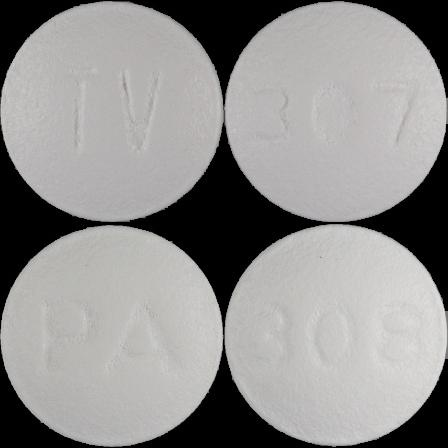10544-209: (0, 0, 224, 224)
